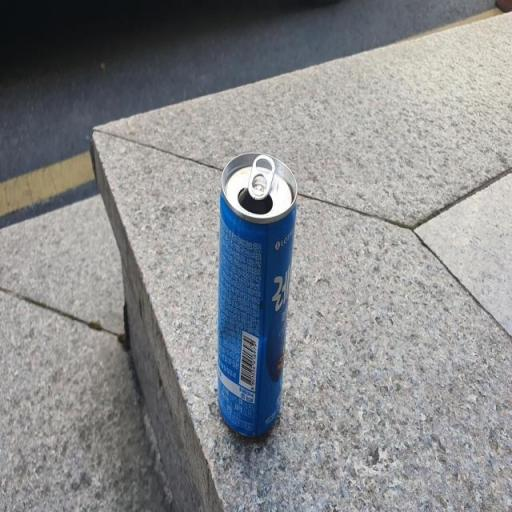metal: (208, 146, 308, 452)
